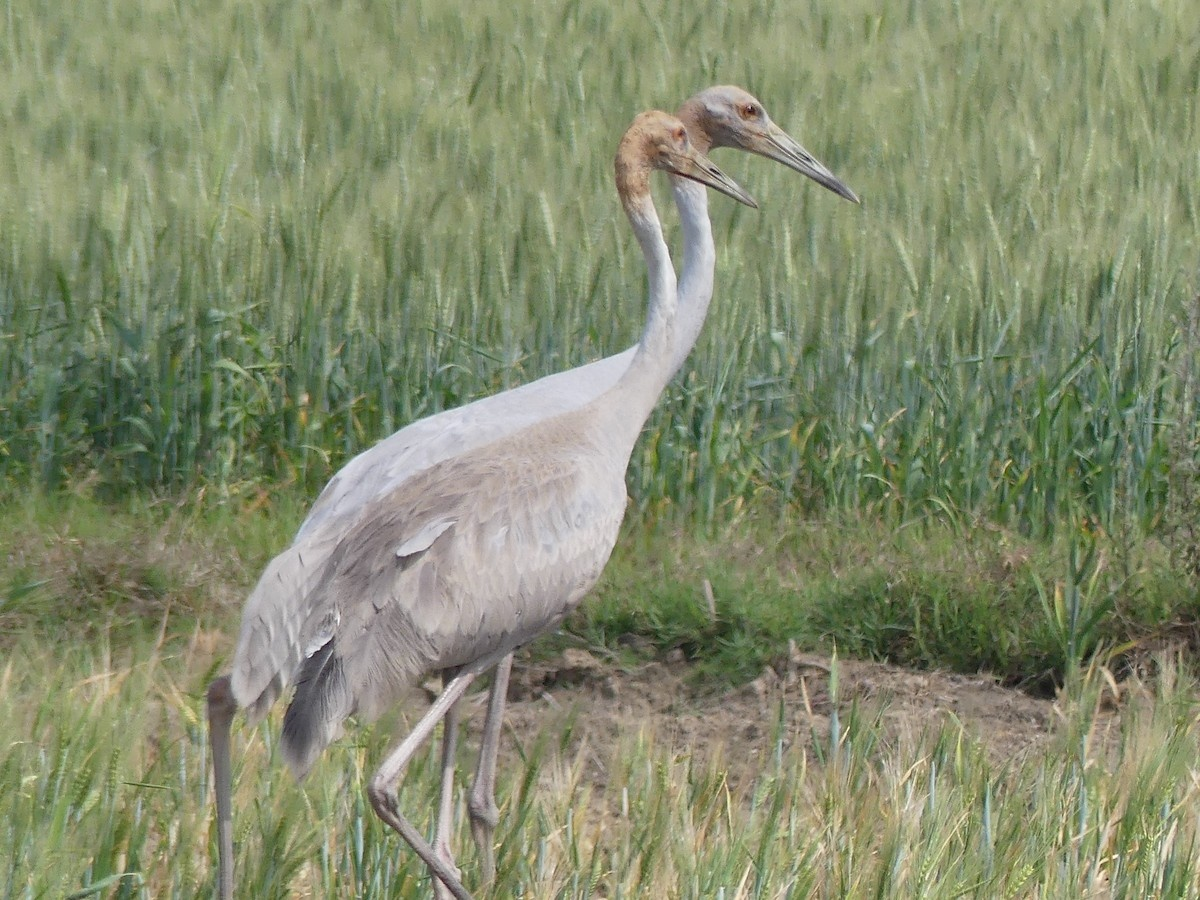crane: (225, 80, 865, 875), (670, 82, 876, 210)
